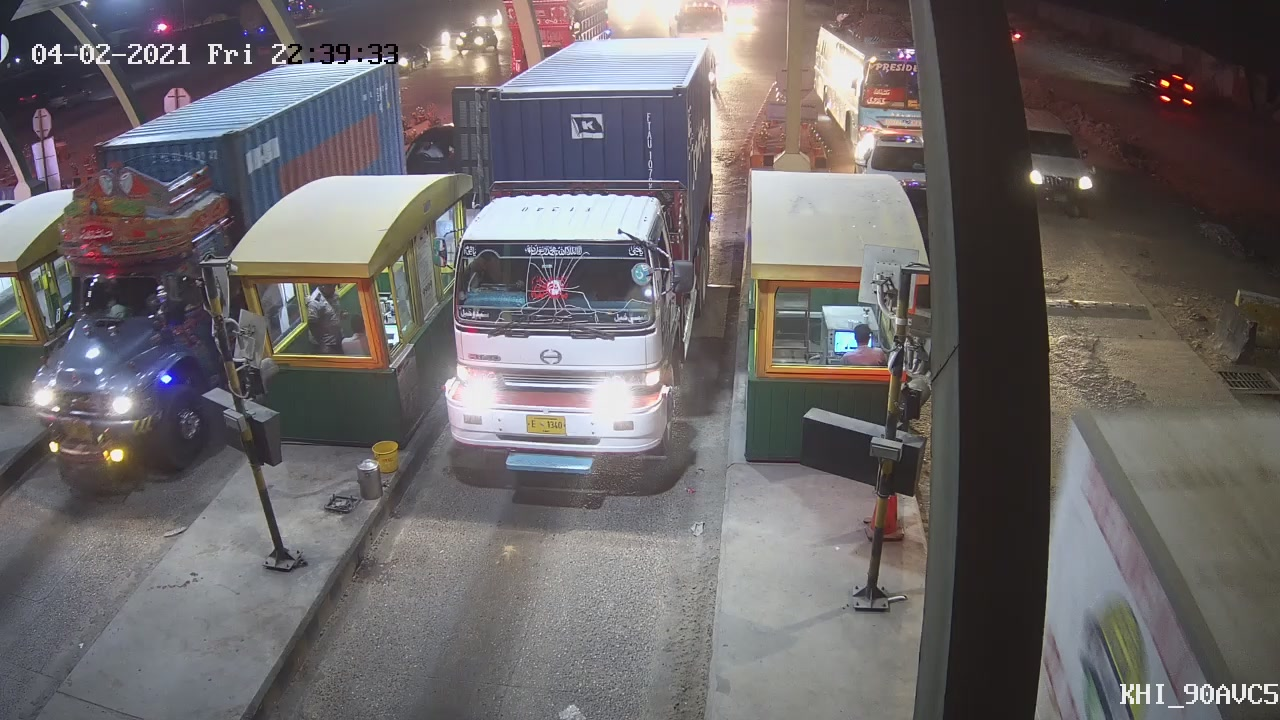F6: (438, 33, 721, 481)
